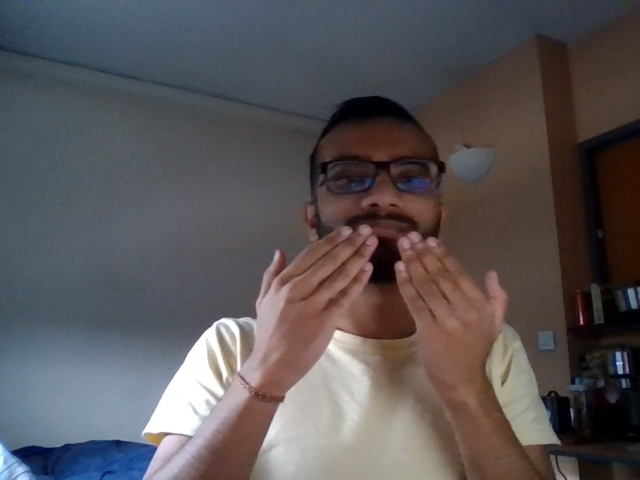Thanks: (240, 223, 518, 377)
